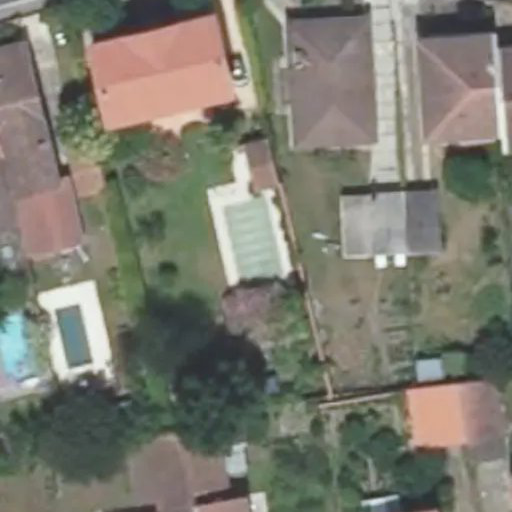pool: (208, 183, 301, 288), (42, 295, 115, 381)
